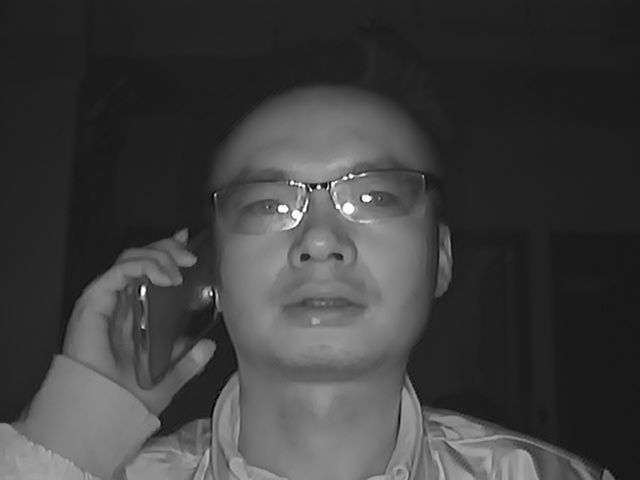hand: (70, 228, 202, 406)
